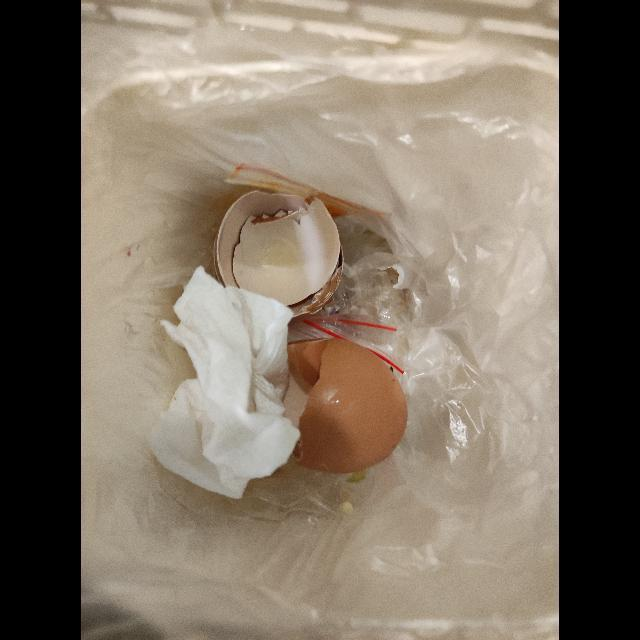biowaste: (214, 190, 343, 318), (288, 338, 408, 475)
paper: (147, 268, 301, 502)
